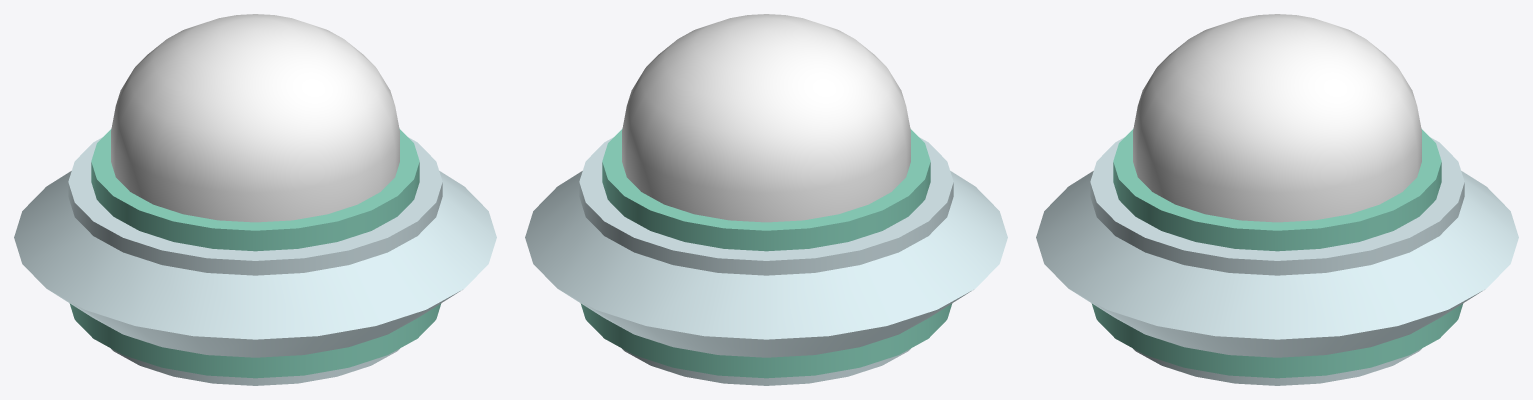
The model's file is enemy_ufoGreen.glb.
The picture shows the model from 3 angles, left to right: view 1: azimuth 30°, elevation 25°; view 2: azimuth 150°, elevation 25°; view 3: azimuth 270°, elevation 25°; orthographic projection.
Parts seen in each view (by area): view 1: enemy_ufoGreen; view 2: enemy_ufoGreen; view 3: enemy_ufoGreen.
Boxes of the visible parts, x1,y1,x2,y2 form: enemy_ufoGreen: (14, 14, 496, 385); enemy_ufoGreen: (525, 14, 1007, 385); enemy_ufoGreen: (1036, 14, 1518, 385).
Bounding box in the file's own units: 1 × 0.6529 × 1.
